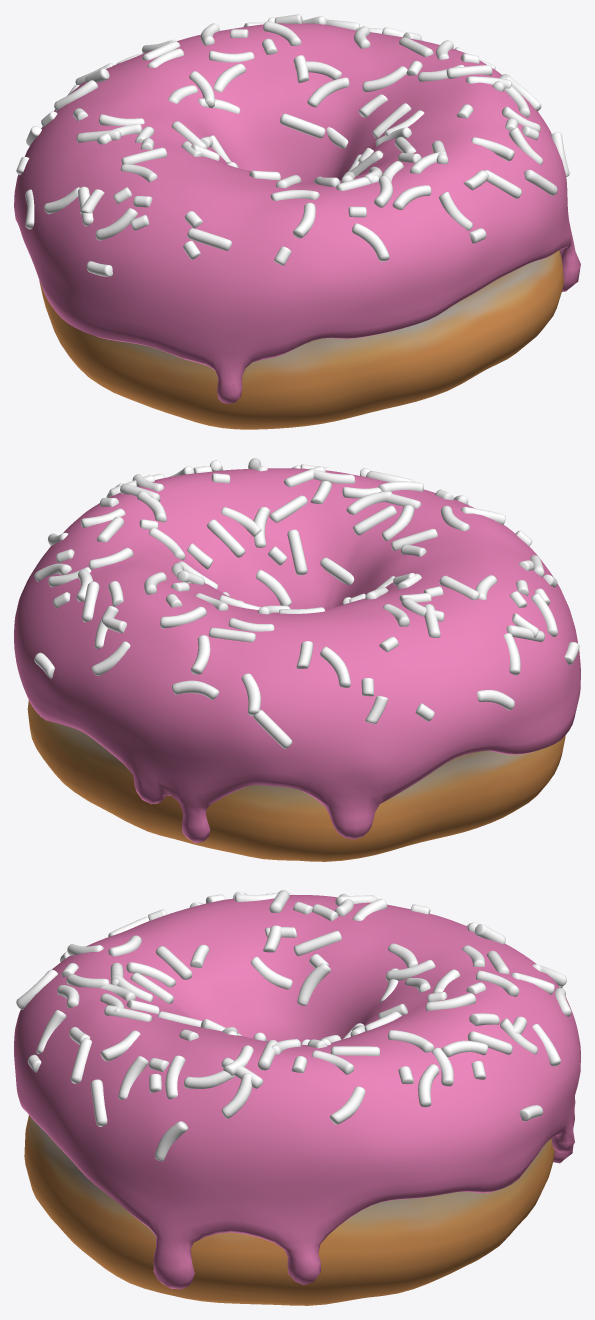
File: donut.gltf
The picture shows the model from 3 angles, top to bottom: view 1: azimuth 30°, elevation 25°; view 2: azimuth 150°, elevation 25°; view 3: azimuth 270°, elevation 25°; orthographic projection. The views are drawn at different scales.
Visible parts, largest first — view 1: icing, donut; view 2: icing, donut; view 3: icing, donut.
Part boxes in pixels (bbox=[...]): icing: bbox=[14, 14, 580, 403]; donut: bbox=[39, 250, 563, 429]; icing: bbox=[14, 458, 580, 842]; donut: bbox=[27, 700, 565, 861]; icing: bbox=[14, 890, 580, 1289]; donut: bbox=[24, 1115, 554, 1305].
Bounding box in the file's own units: 0.0943 × 0.0454 × 0.0899.
3 materials, 1 textured.
